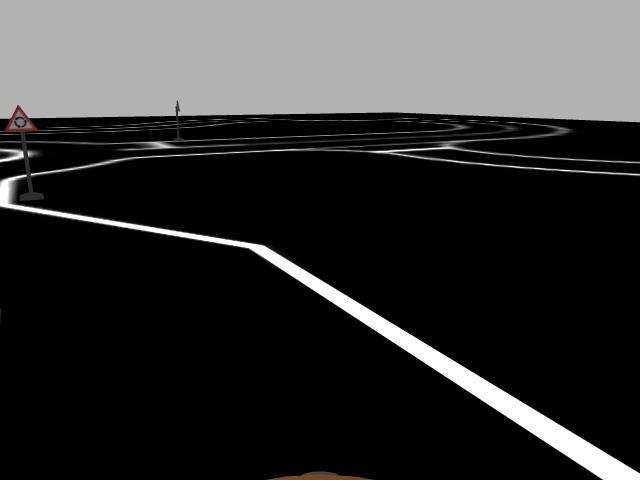roundabout: (3, 104, 37, 132)
